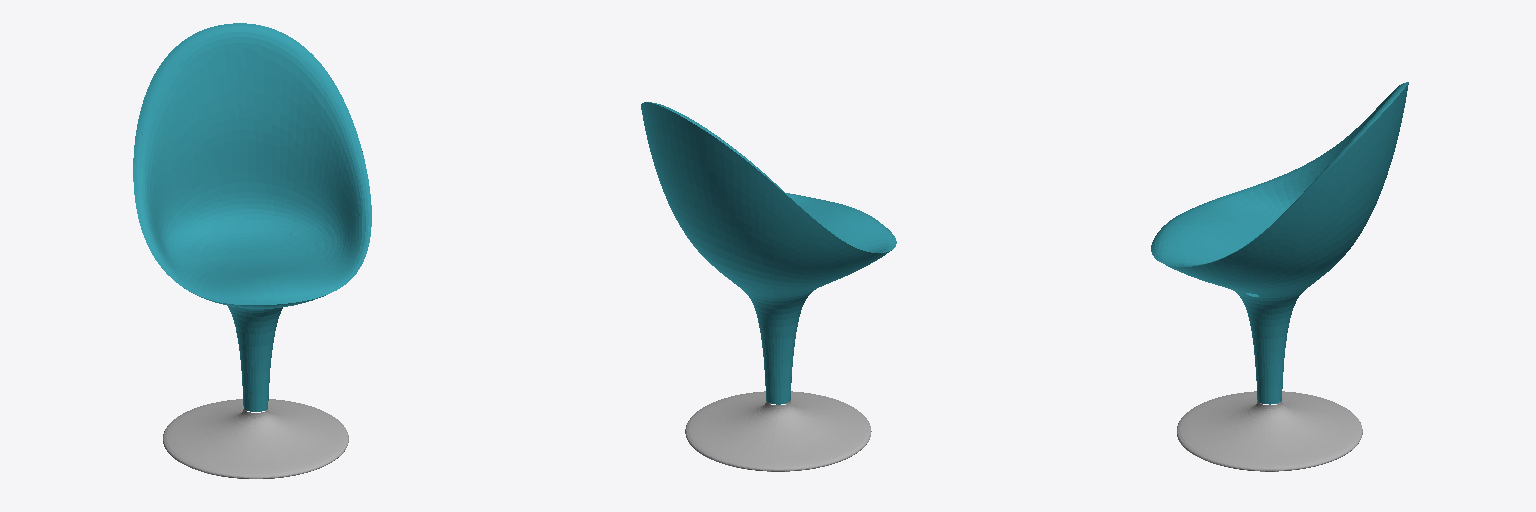
Rendered from chair2.obj.
The picture shows the model from 3 angles: view 1: azimuth 30°, elevation 25°; view 2: azimuth 150°, elevation 25°; view 3: azimuth 270°, elevation 25°; orthographic projection.
Parts seen in each view (by area): view 1: Chair_01.005; view 2: Chair_01.005; view 3: Chair_01.005.
Boxes of the visible parts, <box> form: Chair_01.005: <box>133,23,371,478</box>; Chair_01.005: <box>641,102,896,471</box>; Chair_01.005: <box>1151,82,1408,471</box>.
Bounding box in the file's own units: 0.39 × 0.639 × 0.4158.